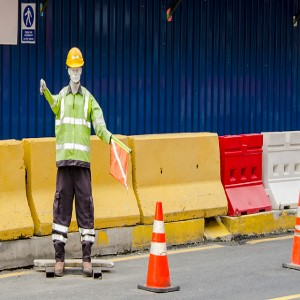traffic cone: (137, 200, 179, 294), (282, 185, 300, 270)
